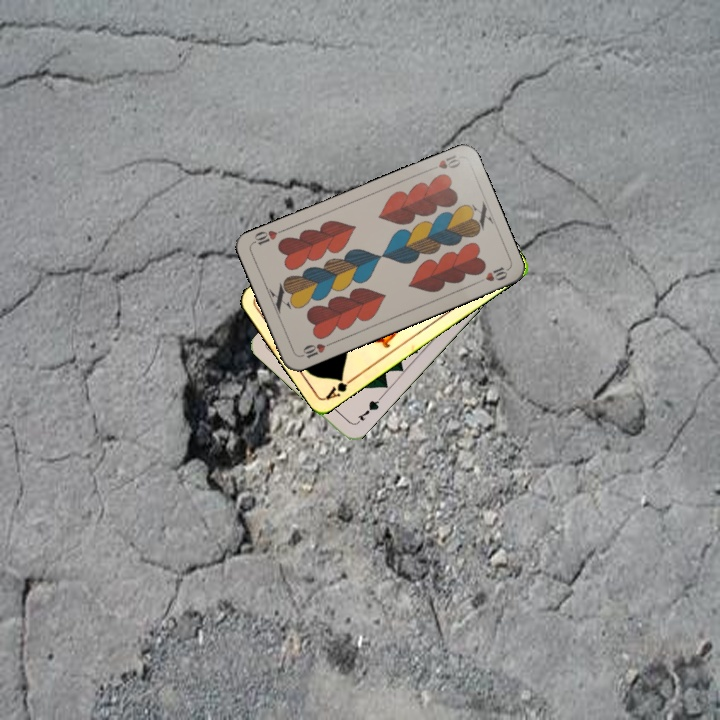G7: (352, 394, 383, 427)
GA: (322, 373, 358, 402)
H10: (424, 150, 463, 174), (296, 338, 335, 361)
